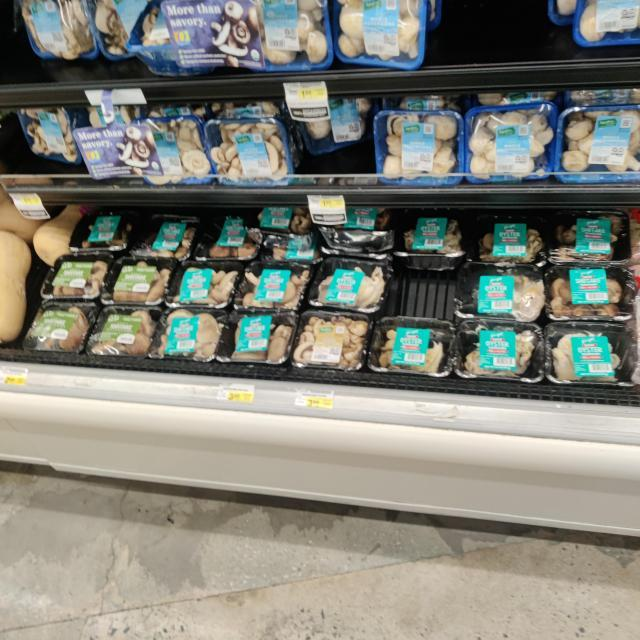Mushroom: (466, 101, 558, 183), (556, 106, 640, 184), (375, 110, 463, 184), (333, 0, 427, 69), (545, 322, 640, 386), (205, 119, 295, 185), (457, 318, 542, 382), (456, 261, 544, 322), (372, 316, 456, 378), (544, 266, 638, 320), (310, 256, 393, 314), (293, 311, 371, 372), (139, 117, 209, 183), (216, 308, 298, 364), (19, 0, 97, 58), (149, 306, 227, 362), (547, 212, 629, 263), (236, 258, 314, 310), (85, 307, 163, 359), (466, 215, 546, 263), (19, 107, 84, 166), (26, 301, 99, 353), (395, 213, 462, 269), (166, 259, 242, 308), (104, 258, 176, 307), (42, 251, 114, 299), (136, 213, 205, 259), (202, 214, 266, 258), (74, 209, 135, 254)
